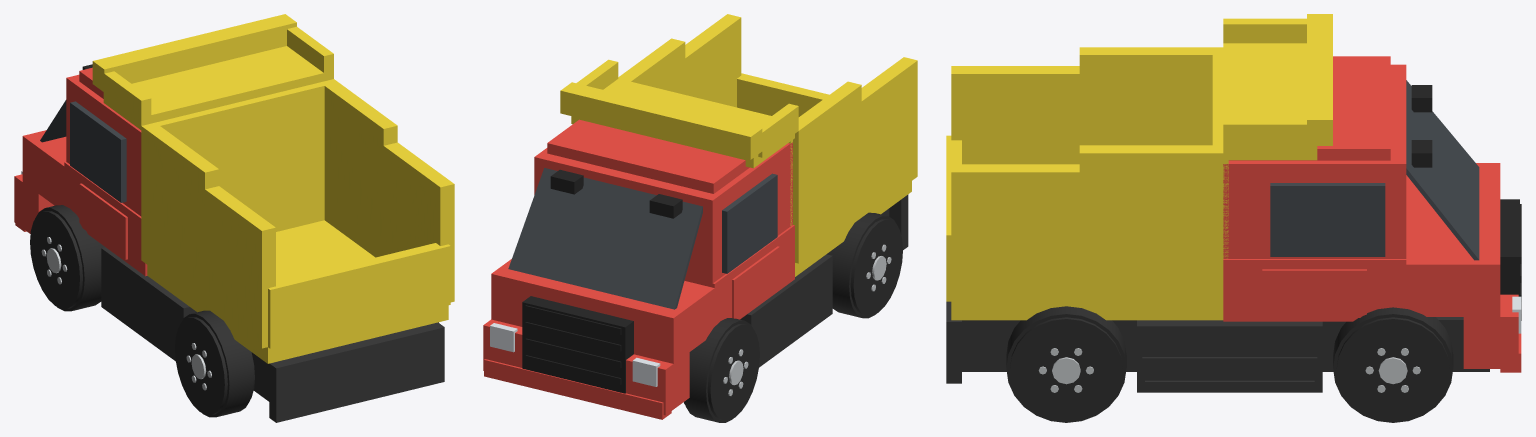
Rendered from caminhao de brinquedo .fbx.
3 views of the same model, side by side, from view 1: azimuth 30°, elevation 25°; view 2: azimuth 150°, elevation 25°; view 3: azimuth 270°, elevation 25° (orthographic). The views are drawn at different scales.
Visible parts, largest first — view 1: SM_ToyDumpTruck; view 2: SM_ToyDumpTruck; view 3: SM_ToyDumpTruck.
Boxes of the visible parts, x1=… form: SM_ToyDumpTruck: x1=14, y1=14, x2=454, y2=422; SM_ToyDumpTruck: x1=483, y1=14, x2=917, y2=422; SM_ToyDumpTruck: x1=946, y1=14, x2=1521, y2=422.
Bounding box in the file's own units: 0.2479 × 0.2865 × 0.5008.
